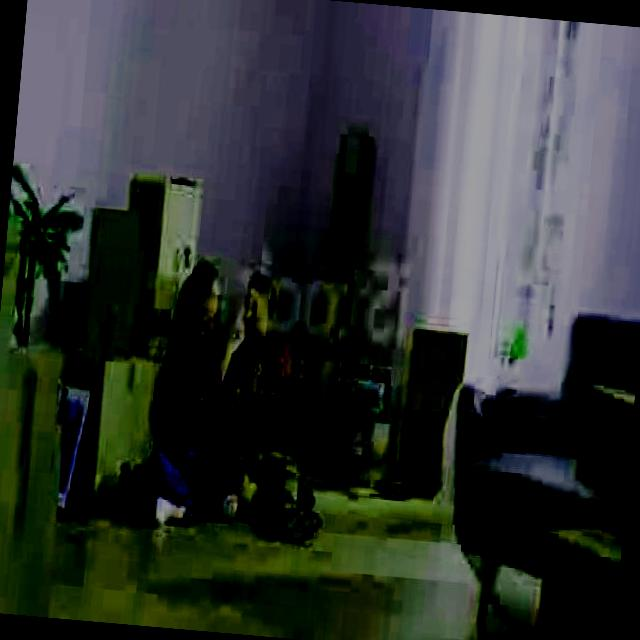Box: (96, 180, 176, 354), (394, 318, 459, 410), (397, 406, 451, 486)
